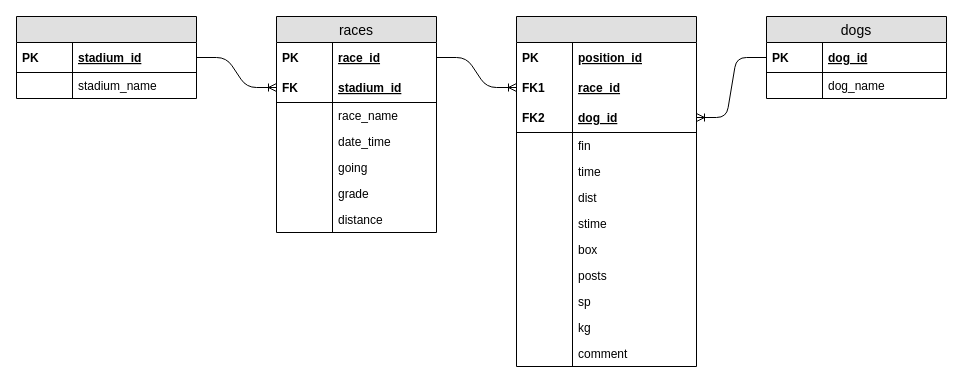
Some shapes in this 963 by 383 pixel diagram are drawn without their labels. The box of each missing label's shape, as (x1, y1, x2, y2) in pixels:
positions: (516, 16, 696, 366)
stadiums: (16, 16, 196, 98)
